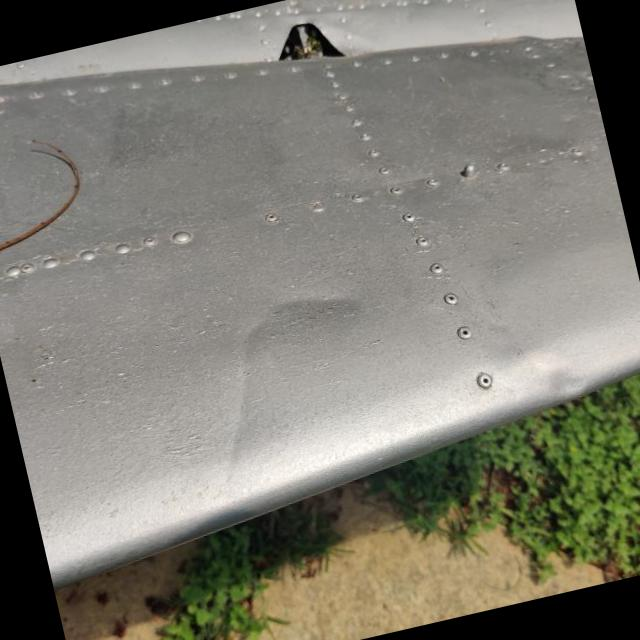Dent: (208, 304, 310, 481), (249, 287, 379, 374), (517, 335, 613, 416)
